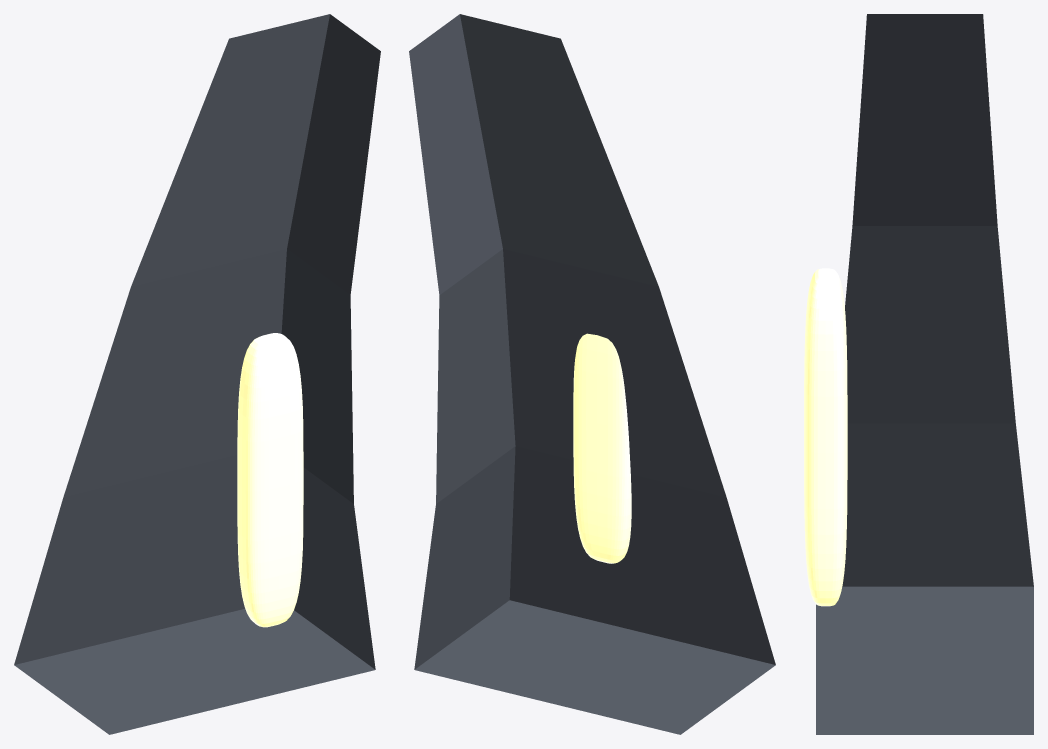
The model's file is ear_right.glb.
3 views of the same model, side by side, from view 1: azimuth 30°, elevation 25°; view 2: azimuth 150°, elevation 25°; view 3: azimuth 270°, elevation 25° (orthographic). The views are drawn at different scales.
Parts seen in each view (by area): view 1: ear_right_outer, ear_right_glow; view 2: ear_right_outer, ear_right_glow; view 3: ear_right_outer, ear_right_glow.
Boxes of the visible parts, box(x1,y1,x2,y2) form: ear_right_outer: box(14, 14, 380, 734); ear_right_glow: box(237, 333, 303, 627); ear_right_outer: box(409, 14, 775, 734); ear_right_glow: box(573, 333, 631, 563); ear_right_outer: box(816, 14, 1033, 734); ear_right_glow: box(804, 268, 847, 606).
Bounding box in the file's own units: 32 × 62 × 19.
